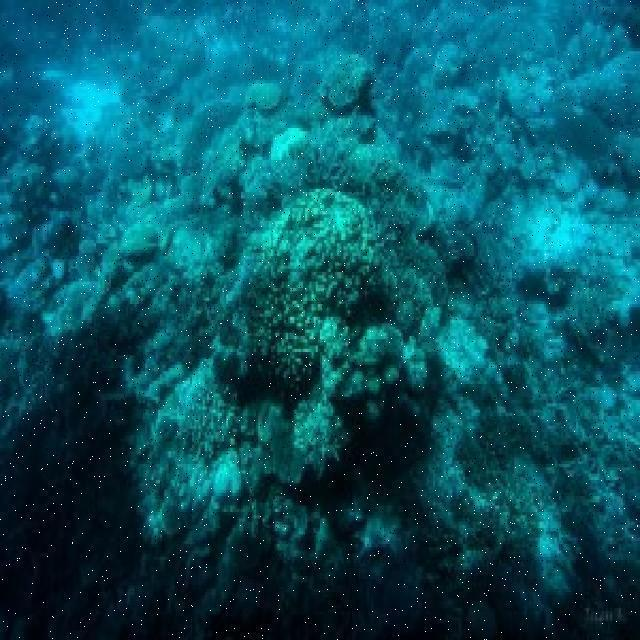Bleached: (135, 390, 241, 499), (507, 192, 640, 276), (433, 304, 483, 509), (536, 508, 574, 601), (173, 227, 219, 278), (271, 130, 310, 187)
Healthy: (264, 206, 408, 409), (323, 56, 373, 110)
